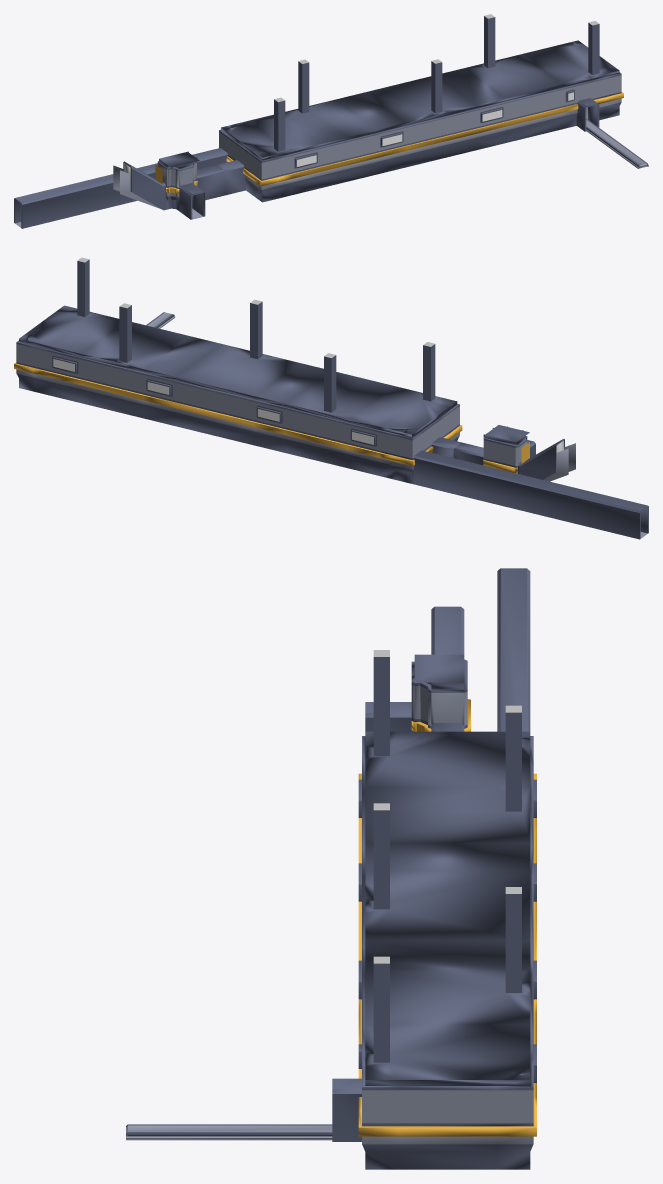
The model's file is forming room.obj.
3 views of the same model, one above another, from view 1: azimuth 30°, elevation 25°; view 2: azimuth 150°, elevation 25°; view 3: azimuth 270°, elevation 25° (orthographic). The views are drawn at different scales.
Visible parts, largest first — view 1: top-large.130_top-large.001_top-large.130_top-large.001_grey-dar, top-large.130_top-large.001_top-large.130_top-large.001_grey.003, top-large.130_top-large.001_top-large.130_top-large.001_striping, top-large.130_top-large.001_top-large.130_top-large.001_grey.006, top-large.130_top-large.001_top-large.130_top-large.001_wall, top-large.130_top-large.001_top-large.130_top-large.001_grey.001, top-large.130_top-large.001_top-large.130_top-large.001_grey.002, top-large.130_top-large.001_top-large.130_top-large.001_door, top-large.130_top-large.001_top-large.130_top-large.001_grey.004, top-large.130_top-large.001_top-large.130_top-large.001__default, top-large.130_top-large.001_top-large.130_top-large.001_grey.030; view 2: top-large.130_top-large.001_top-large.130_top-large.001_grey-dar, top-large.130_top-large.001_top-large.130_top-large.001_grey.003, top-large.130_top-large.001_top-large.130_top-large.001_striping, top-large.130_top-large.001_top-large.130_top-large.001_grey.006, top-large.130_top-large.001_top-large.130_top-large.001_grey.001, top-large.130_top-large.001_top-large.130_top-large.001_wall, top-large.130_top-large.001_top-large.130_top-large.001__default, top-large.130_top-large.001_top-large.130_top-large.001_door; view 3: top-large.130_top-large.001_top-large.130_top-large.001_grey-dar, top-large.130_top-large.001_top-large.130_top-large.001_grey.003, top-large.130_top-large.001_top-large.130_top-large.001_striping, top-large.130_top-large.001_top-large.130_top-large.001_grey.001, top-large.130_top-large.001_top-large.130_top-large.001_grey.004, top-large.130_top-large.001_top-large.130_top-large.001_wall, top-large.130_top-large.001_top-large.130_top-large.001_grey.002.
Part boxes in pixels (bbox=[...]): top-large.130_top-large.001_top-large.130_top-large.001_grey-dar: bbox=[14, 16, 648, 228]; top-large.130_top-large.001_top-large.130_top-large.001_grey.003: bbox=[228, 79, 605, 185]; top-large.130_top-large.001_top-large.130_top-large.001_striping: bbox=[155, 92, 623, 193]; top-large.130_top-large.001_top-large.130_top-large.001_grey.006: bbox=[291, 103, 505, 182]; top-large.130_top-large.001_top-large.130_top-large.001_wall: bbox=[123, 159, 168, 210]; top-large.130_top-large.001_top-large.130_top-large.001_grey.001: bbox=[219, 75, 621, 189]; top-large.130_top-large.001_top-large.130_top-large.001_grey.002: bbox=[15, 82, 591, 227]; top-large.130_top-large.001_top-large.130_top-large.001_door: bbox=[113, 165, 160, 208]; top-large.130_top-large.001_top-large.130_top-large.001_grey.004: bbox=[586, 120, 648, 168]; top-large.130_top-large.001_top-large.130_top-large.001__default: bbox=[297, 92, 573, 166]; top-large.130_top-large.001_top-large.130_top-large.001_grey.030: bbox=[166, 162, 197, 197]; top-large.130_top-large.001_top-large.130_top-large.001_grey-dar: bbox=[16, 259, 648, 539]; top-large.130_top-large.001_top-large.130_top-large.001_grey.003: bbox=[33, 348, 517, 473]; top-large.130_top-large.001_top-large.130_top-large.001_striping: bbox=[14, 362, 529, 472]; top-large.130_top-large.001_top-large.130_top-large.001_grey.006: bbox=[49, 352, 379, 461]; top-large.130_top-large.001_top-large.130_top-large.001_grey.001: bbox=[16, 344, 459, 469]; top-large.130_top-large.001_top-large.130_top-large.001_wall: bbox=[516, 436, 564, 479]; top-large.130_top-large.001_top-large.130_top-large.001__default: bbox=[53, 359, 373, 444]; top-large.130_top-large.001_top-large.130_top-large.001_door: bbox=[543, 443, 575, 481]; top-large.130_top-large.001_top-large.130_top-large.001_grey-dar: bbox=[126, 568, 536, 1169]; top-large.130_top-large.001_top-large.130_top-large.001_grey.003: bbox=[398, 692, 497, 1144]; top-large.130_top-large.001_top-large.130_top-large.001_striping: bbox=[358, 699, 536, 1136]; top-large.130_top-large.001_top-large.130_top-large.001_grey.001: bbox=[362, 1090, 533, 1144]; top-large.130_top-large.001_top-large.130_top-large.001_grey.004: bbox=[126, 1125, 332, 1140]; top-large.130_top-large.001_top-large.130_top-large.001_wall: bbox=[431, 606, 464, 654]; top-large.130_top-large.001_top-large.130_top-large.001_grey.002: bbox=[431, 693, 464, 725].
Bounding box in the file's own units: 79.4 × 12.63 × 24.9.
